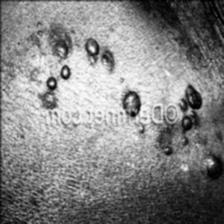Unclassified: (30, 26, 148, 108), (179, 80, 224, 180), (157, 142, 175, 160)
